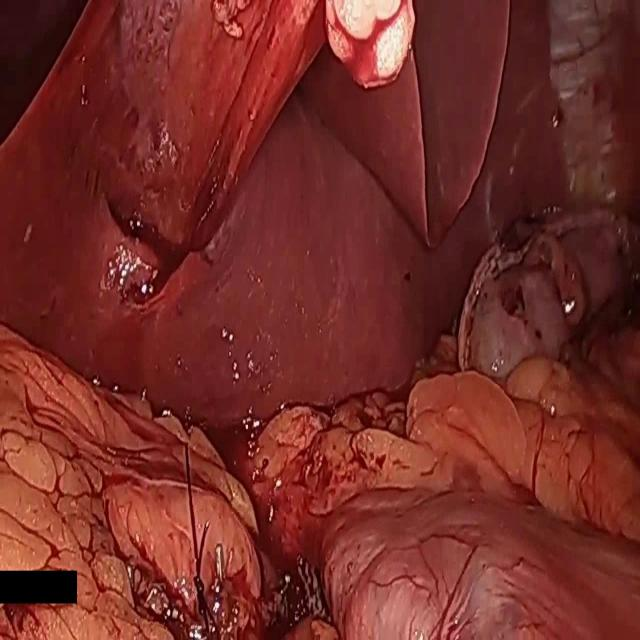surgical-area: (0, 1, 640, 639)
